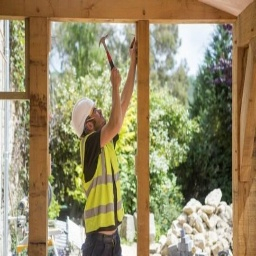helmet: (71, 95, 100, 142)
person: (70, 94, 127, 256)
vest: (79, 132, 123, 236)
